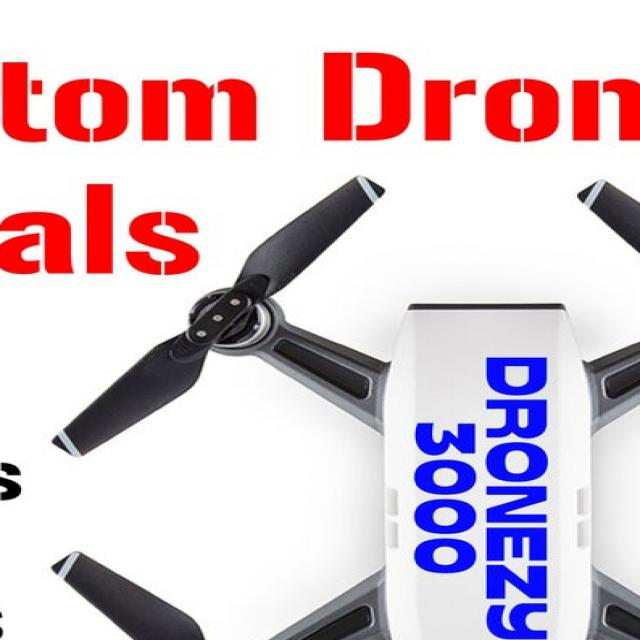drone: (67, 151, 640, 640)
